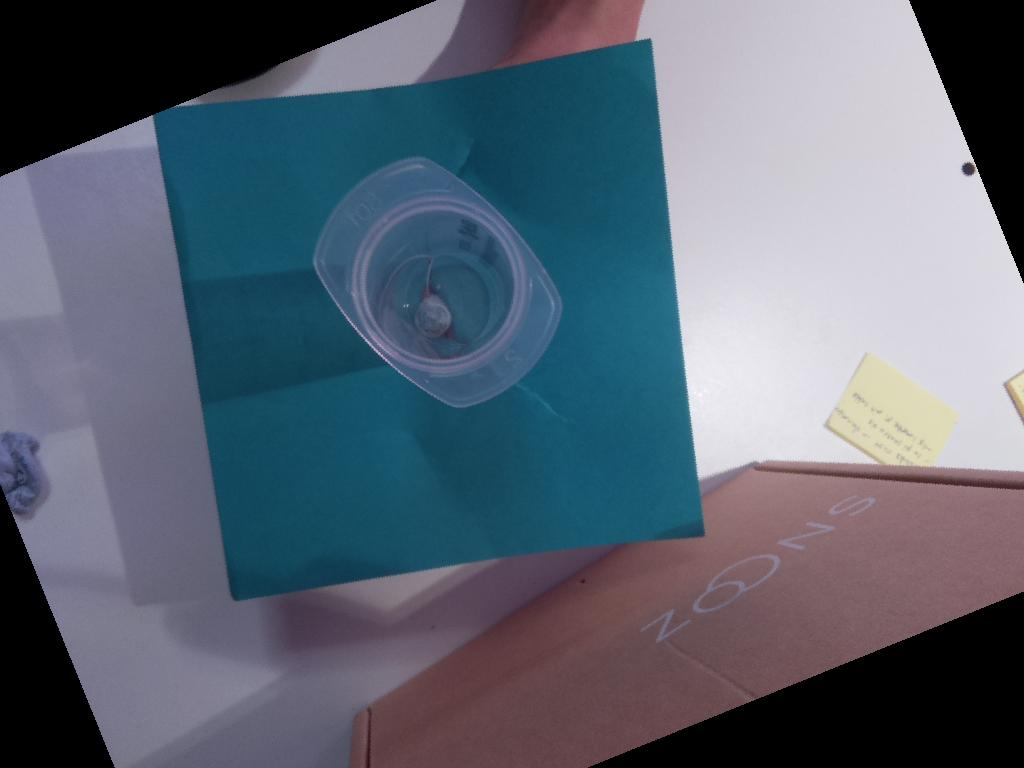clean: (311, 153, 562, 406)
